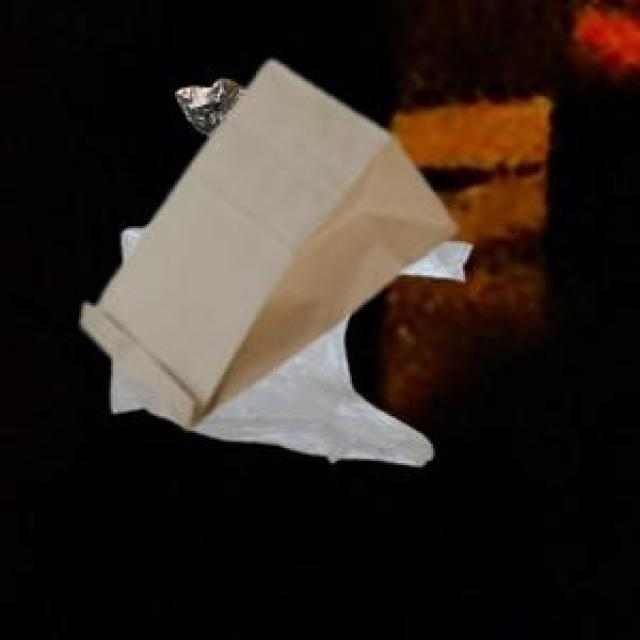miscellaneous trash: (173, 75, 241, 132)
paper: (77, 58, 452, 425)
